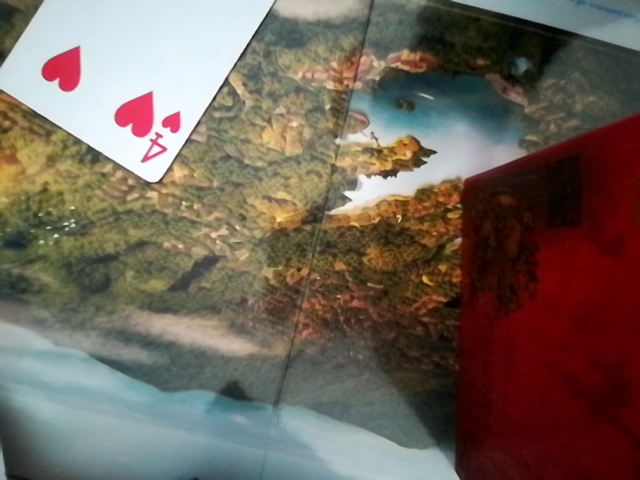hx 4: (0, 0, 337, 187)
